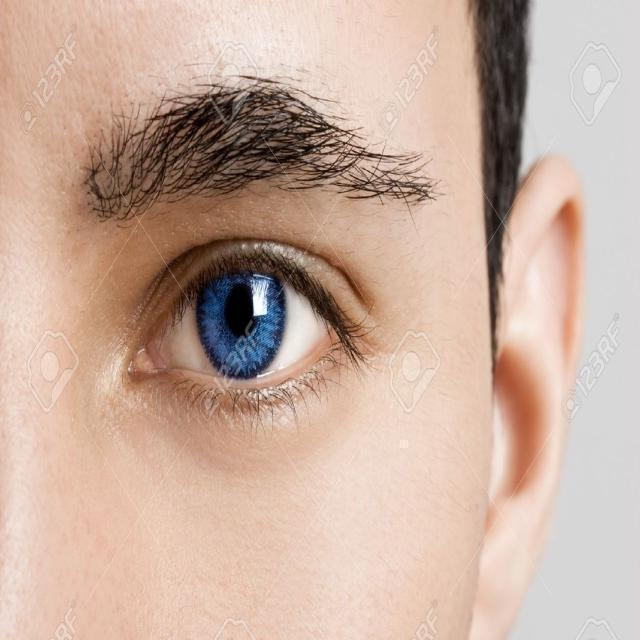Normal: (76, 178, 399, 464)
